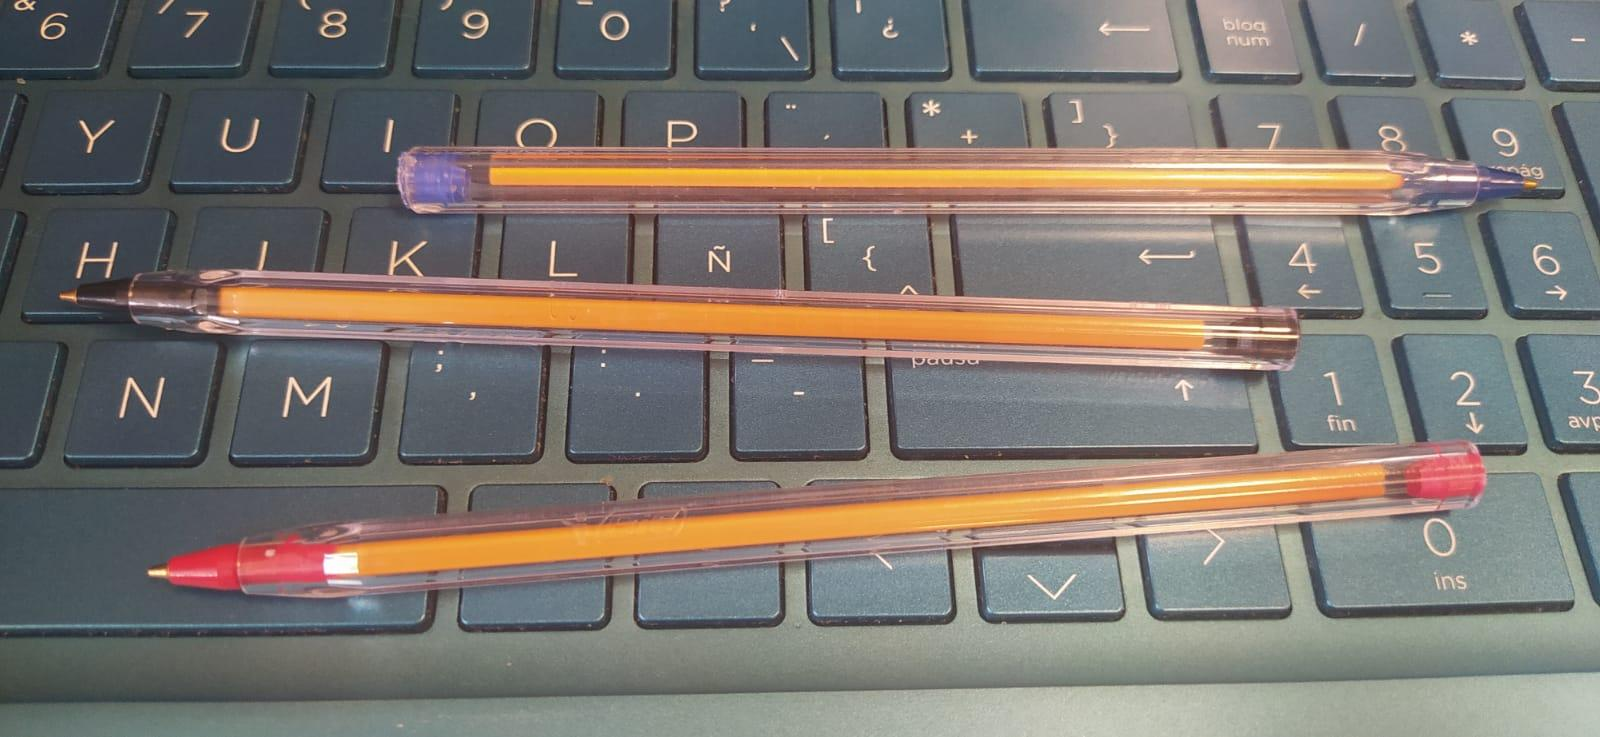pen: (144, 442, 1487, 604), (58, 257, 1303, 380), (394, 135, 1547, 217)
